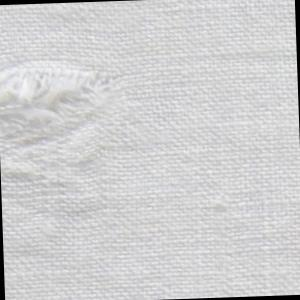Damage: (1, 48, 136, 233)
